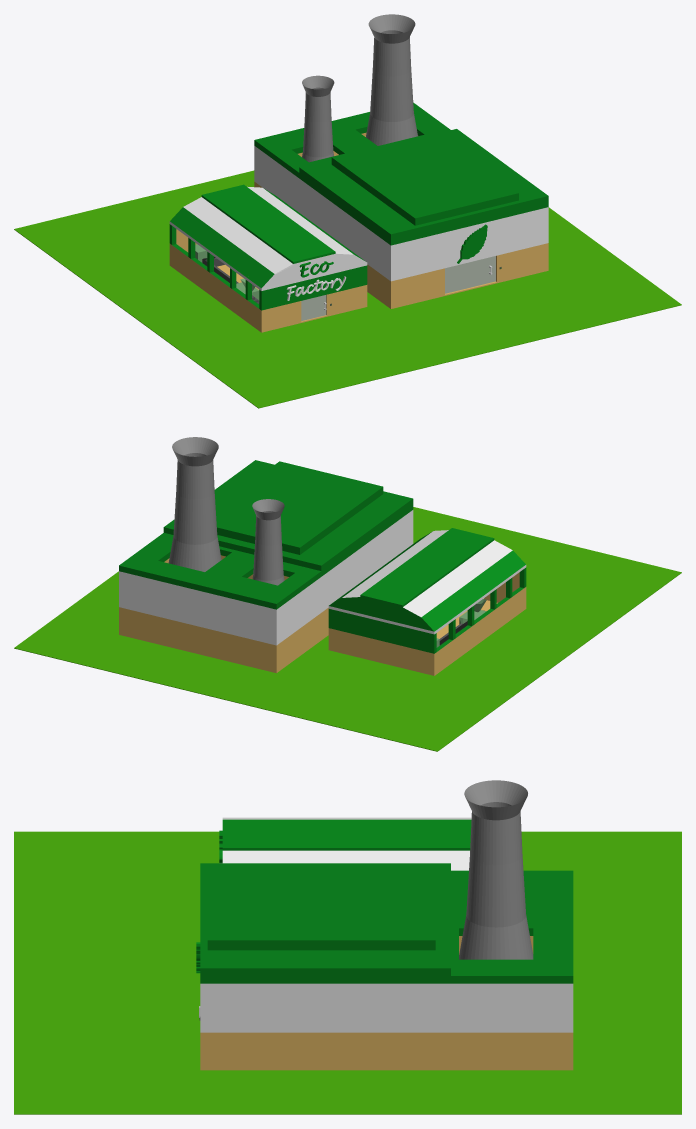
The model's file is backDoorButton.gltf.
The picture shows the model from 3 angles, top to bottom: view 1: azimuth 30°, elevation 25°; view 2: azimuth 150°, elevation 25°; view 3: azimuth 270°, elevation 25°; orthographic projection. The views are drawn at different scales.
Parts seen in each view (by area): view 1: Cube, Cube.002, Cube.001, Torus.001, Torus, Cube.005, line; view 2: Cube, Cube.002, Cube.001, Torus.001, Torus; view 3: Cube, Cube.002, Cube.001, Torus.001.
Part boxes in pixels (bbox=[...]): Cube: bbox=[14, 170, 681, 408]; Cube.002: bbox=[254, 102, 548, 308]; Cube.001: bbox=[169, 184, 367, 332]; Torus.001: bbox=[366, 14, 417, 145]; Torus: bbox=[302, 75, 334, 162]; Cube.005: bbox=[445, 256, 495, 293]; line: bbox=[195, 244, 259, 304]; Cube: bbox=[14, 507, 681, 751]; Cube.002: bbox=[119, 460, 413, 673]; Cube.001: bbox=[328, 528, 526, 675]; Torus.001: bbox=[168, 437, 221, 571]; Torus: bbox=[252, 499, 284, 585]; Cube: bbox=[14, 831, 681, 1114]; Cube.002: bbox=[200, 863, 573, 1070]; Cube.001: bbox=[222, 817, 471, 870]; Torus.001: bbox=[459, 780, 533, 959].
Bounding box in the file's own units: 160 × 64.8 × 160.
